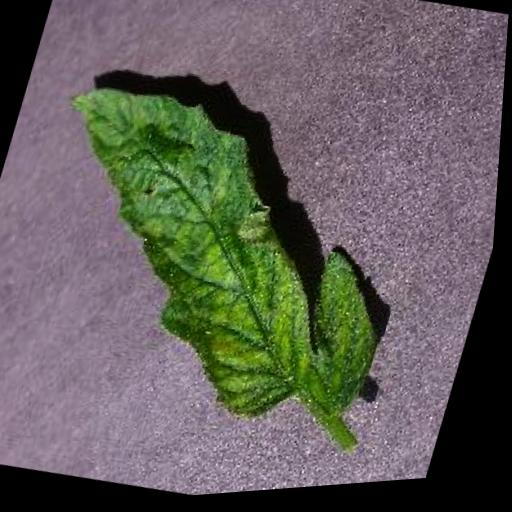Mosaic Virus: (0, 58, 446, 463)
